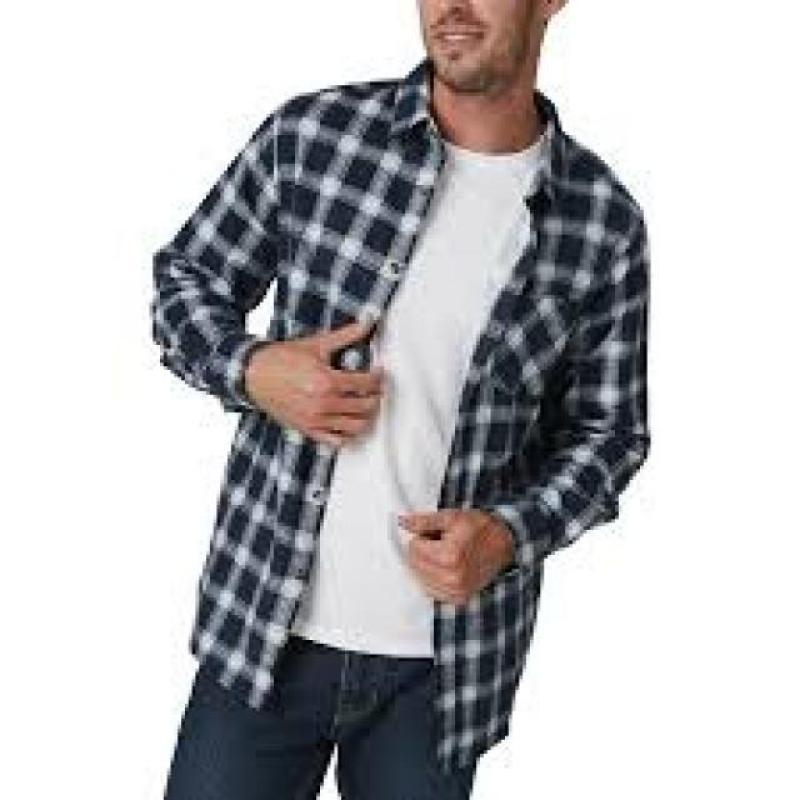long sleeve shirt: (147, 59, 654, 739)
short sleeve shirt: (284, 125, 556, 661)
trousers: (161, 634, 483, 800)
